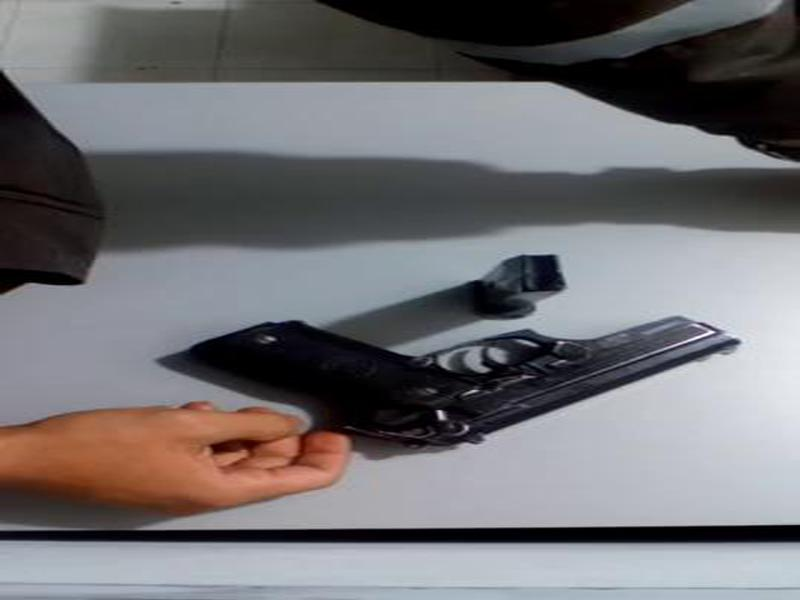Pistola: (181, 286, 757, 477)
